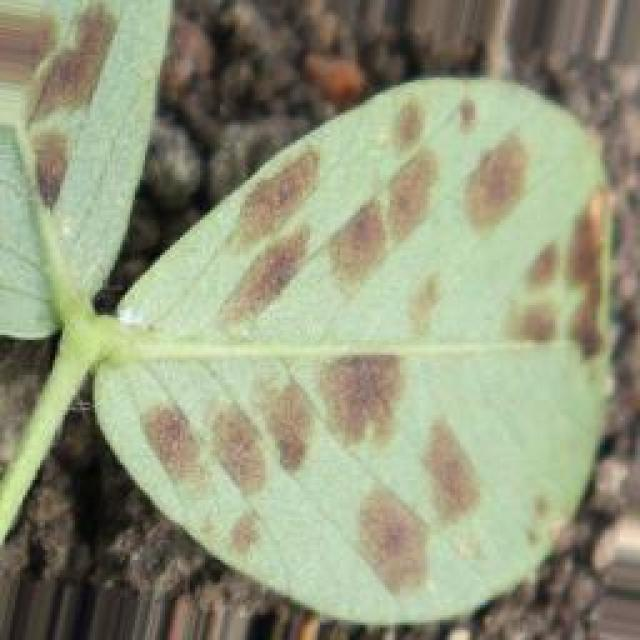Whitefly: (12, 0, 600, 585)
